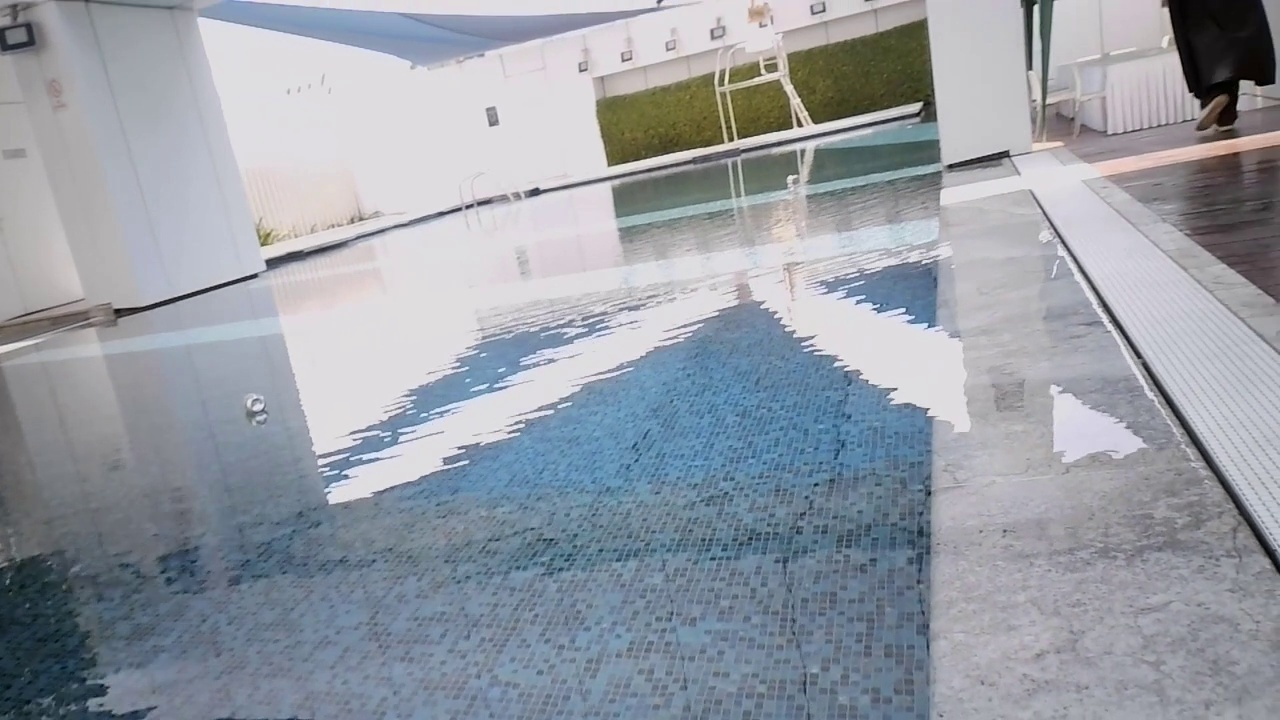debris: (238, 392, 268, 415), (785, 173, 802, 186)
